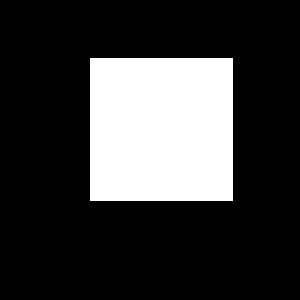circle: (90, 58, 233, 201)
